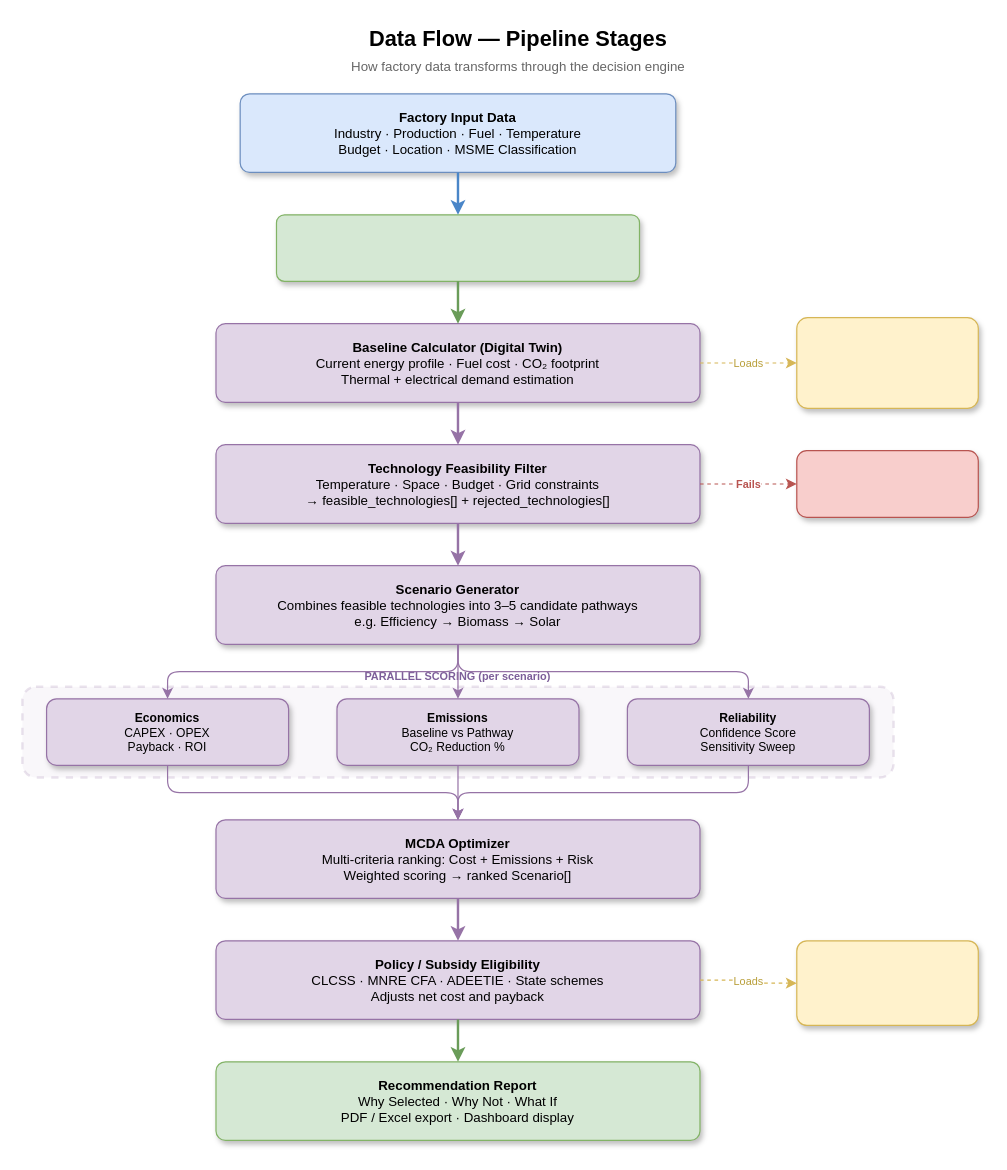
This 1007x1170 diagram has some shape labels left out. Here are the shapes that lost their labels. From the top down, the centre of each, then its label:
At point 458,249: "Input Validation Schema check · Range validation · Required fields".
At point 888,364: "Knowledge Base technologies/*.json constraints/*.json finance/*.json".
At point 888,485: "Rejected Tech + Why Not reasons".
At point 888,984: "Policy Data eligibility_rules.json central_policies.json state_policies.json".
